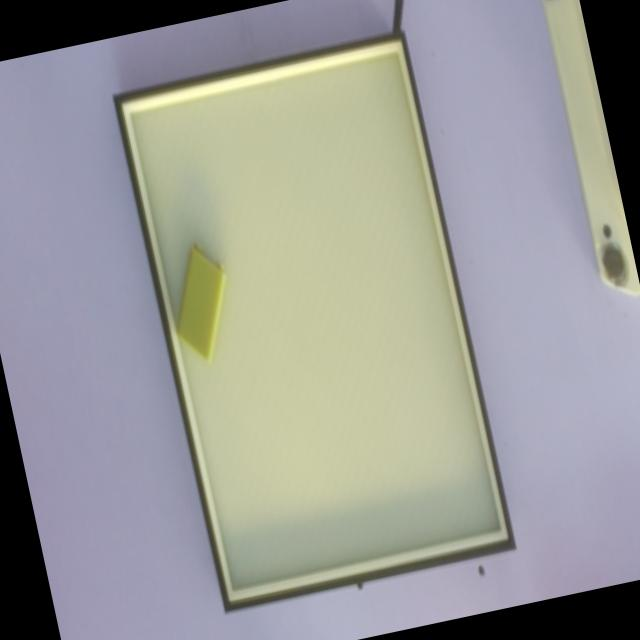bateria: (176, 240, 227, 365)
mesa: (112, 29, 517, 612)
